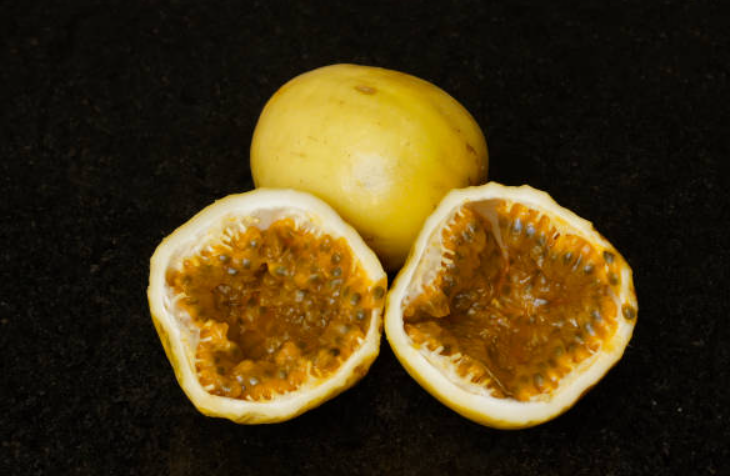maracuya: (242, 47, 496, 279)
